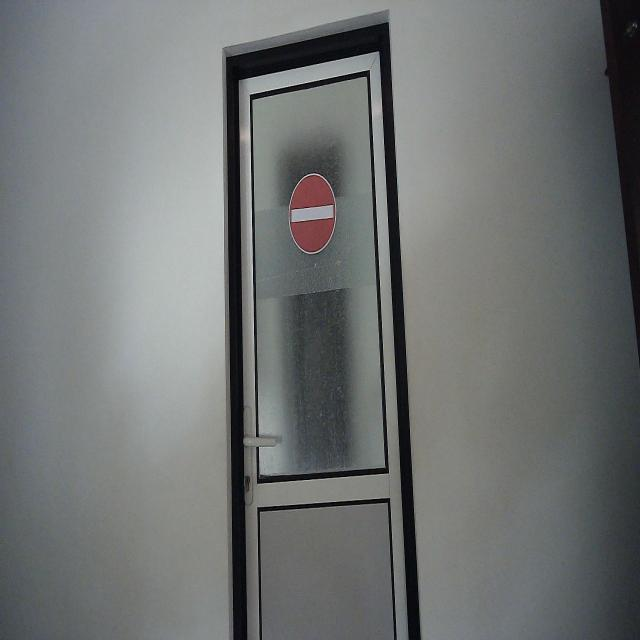no_entry: (287, 170, 338, 256)
